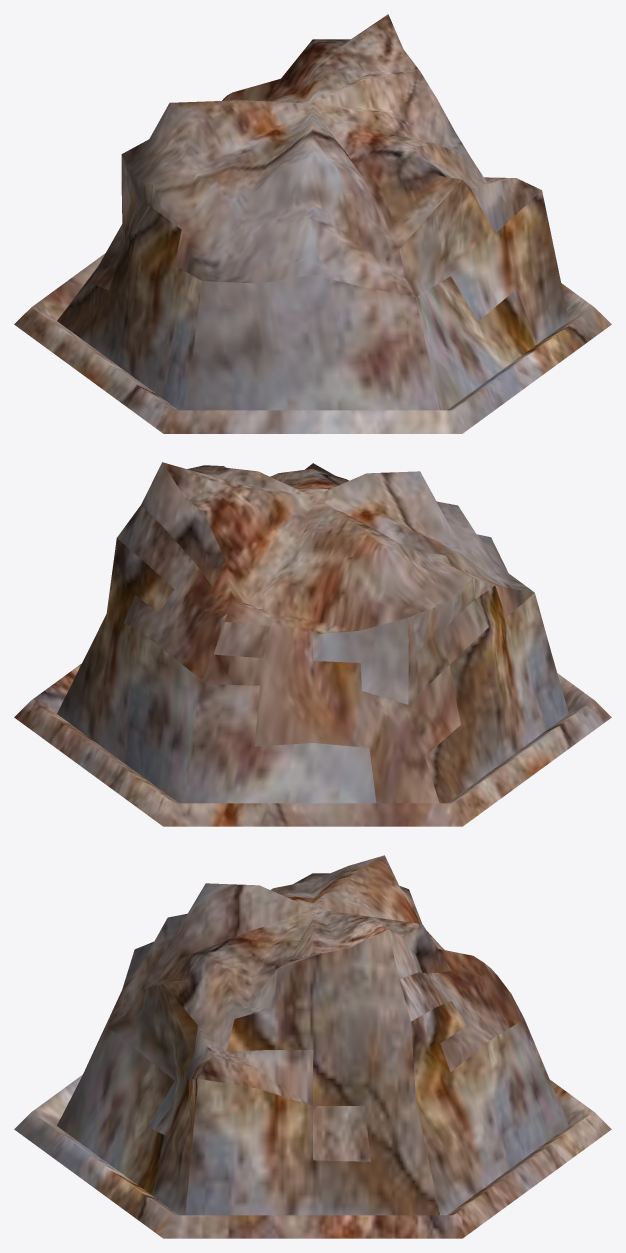
The model's file is rocky-hills.glb.
3 views of the same model, one above another, from view 1: azimuth 30°, elevation 25°; view 2: azimuth 150°, elevation 25°; view 3: azimuth 270°, elevation 25° (orthographic).
Visible parts, largest first — view 1: HexagonTile.009; view 2: HexagonTile.009; view 3: HexagonTile.009.
Part boxes in pixels (<box>): HexagonTile.009: <box>14,14,611,433</box>; HexagonTile.009: <box>14,462,611,826</box>; HexagonTile.009: <box>14,855,611,1238</box>.
Size of the model in its own units: 1.73 by 0.9418 by 2.
1 material, 1 textured.
